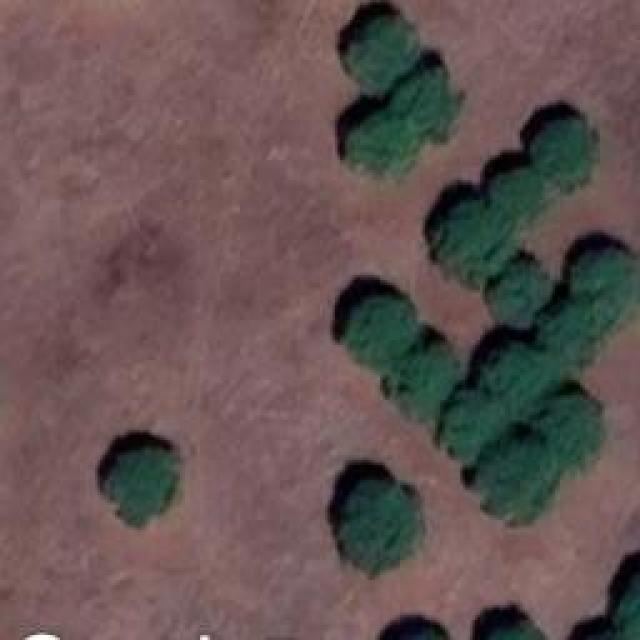Tree: (340, 480, 418, 565), (435, 200, 510, 283), (478, 432, 548, 520), (395, 343, 460, 418), (343, 297, 413, 365), (485, 345, 553, 413), (535, 115, 598, 185), (355, 17, 410, 95), (573, 248, 638, 313), (350, 113, 413, 178), (400, 70, 460, 138), (113, 450, 168, 513), (545, 393, 598, 458), (445, 390, 495, 458), (493, 263, 548, 323), (543, 305, 598, 363), (490, 170, 545, 225), (482, 617, 549, 640), (625, 577, 640, 640)
